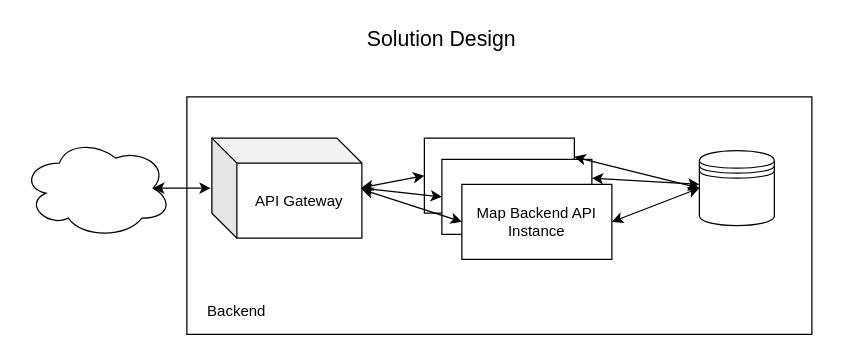
Some shapes in this 845 by 356 pixel diagram are drawn without their labels. The box of each missing label's shape, as (x1, y1, x2, y2) in pixels:
Client: (21, 137, 172, 238)
Database: (698, 149, 774, 226)
